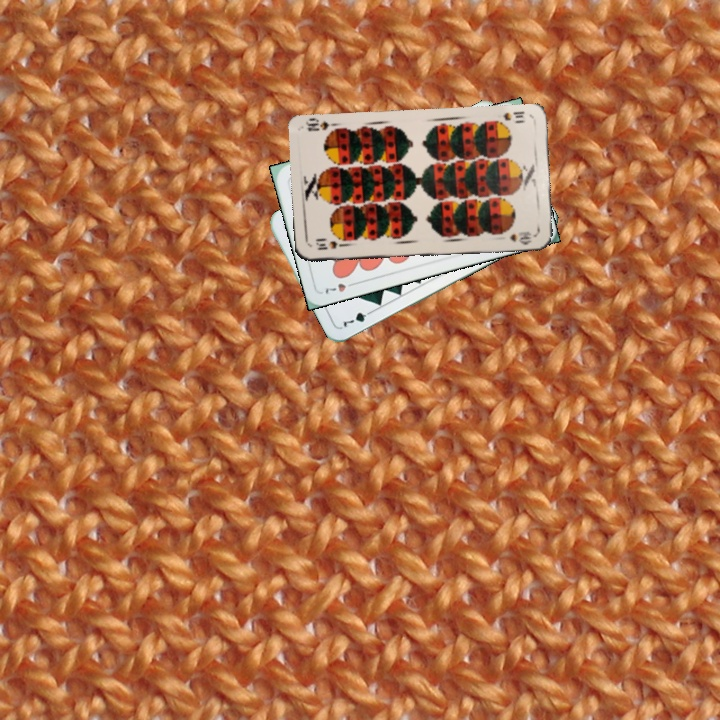G7: (339, 306, 376, 330)
H7: (321, 278, 359, 297)
S10: (311, 237, 349, 253), (499, 107, 527, 123)
